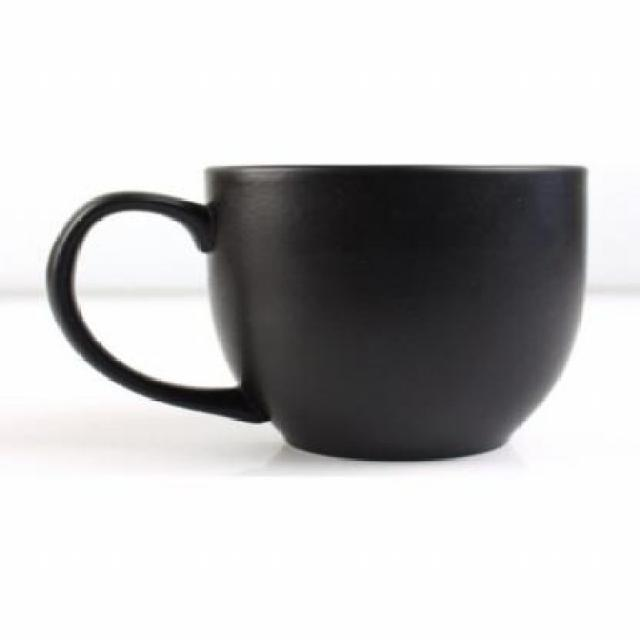taza: (42, 162, 591, 462)
